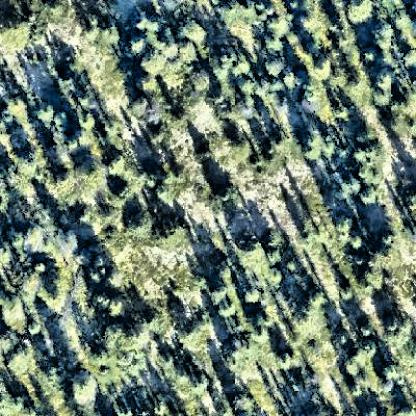tree-top: (218, 3, 260, 41), (68, 371, 100, 406), (238, 232, 269, 266), (125, 203, 155, 238), (382, 316, 413, 345), (176, 18, 208, 45), (302, 131, 333, 157), (162, 215, 189, 244), (142, 45, 168, 73), (313, 57, 339, 85), (262, 54, 290, 78), (346, 1, 375, 24), (18, 150, 43, 176), (80, 158, 105, 183), (130, 92, 155, 117), (80, 23, 103, 48), (10, 347, 33, 371), (57, 229, 79, 254), (194, 69, 215, 95), (107, 294, 129, 317), (43, 288, 66, 310), (234, 390, 256, 413), (78, 110, 99, 132), (220, 185, 240, 208), (219, 296, 240, 316), (181, 326, 200, 347), (9, 98, 30, 117), (374, 91, 394, 110), (197, 147, 213, 166), (38, 107, 56, 123), (29, 321, 45, 338)
